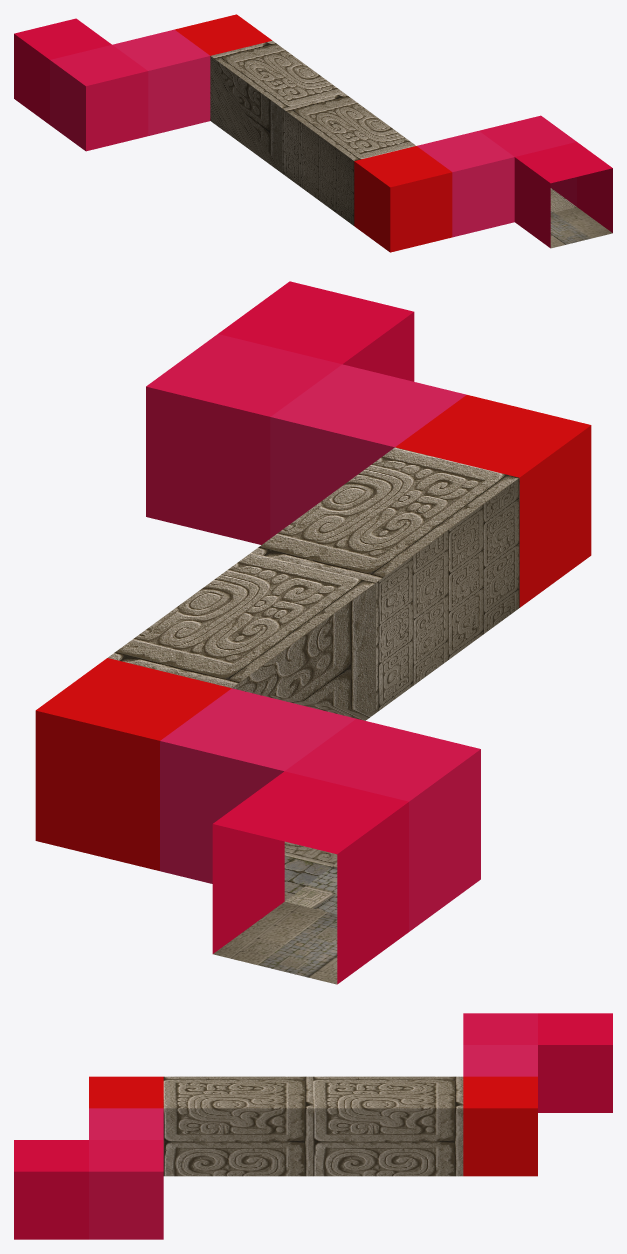
File: corridor.glb
The picture shows the model from 3 angles, top to bottom: view 1: azimuth 30°, elevation 25°; view 2: azimuth 150°, elevation 25°; view 3: azimuth 270°, elevation 25°; orthographic projection. The views are drawn at different scales.
Parts seen in each view (by area): view 1: Cube.001, Cube.003, Cube.004, Cube.009, Cube.010, Cube.006, Cube.005, Cube.008, Cube.007, Cube.002; view 2: Cube.001, Cube.008, Cube.003, Cube.002, Cube.007, Cube.006, Cube.009, Cube.004, Cube.005, Cube.010; view 3: Cube.003, Cube.001, Cube.002, Cube.008, Cube.007, Cube.010, Cube.004, Cube.006, Cube.009, Cube.005.
Part boxes in pixels (x1,y1,x2,y2): Cube.001: [282, 93, 415, 225]; Cube.003: [210, 40, 343, 173]; Cube.004: [354, 146, 452, 252]; Cube.009: [50, 45, 148, 151]; Cube.010: [514, 142, 612, 248]; Cube.006: [112, 29, 210, 135]; Cube.005: [417, 131, 514, 237]; Cube.008: [14, 18, 111, 124]; Cube.007: [479, 115, 576, 213]; Cube.002: [175, 14, 271, 55]; Cube.001: [251, 447, 519, 712]; Cube.008: [212, 771, 408, 984]; Cube.003: [108, 552, 375, 720]; Cube.002: [35, 658, 231, 870]; Cube.007: [146, 334, 341, 544]; Cube.006: [160, 688, 355, 900]; Cube.009: [285, 718, 480, 931]; Cube.004: [395, 395, 591, 607]; Cube.005: [270, 364, 466, 538]; Cube.010: [218, 281, 414, 381]; Cube.003: [313, 1076, 463, 1176]; Cube.001: [163, 1076, 313, 1176]; Cube.002: [463, 1076, 537, 1176]; Cube.008: [538, 1013, 612, 1112]; Cube.007: [89, 1140, 163, 1239]; Cube.010: [14, 1140, 88, 1239]; Cube.004: [89, 1076, 163, 1108]; Cube.006: [463, 1045, 537, 1076]; Cube.009: [463, 1013, 537, 1044]; Cube.005: [89, 1108, 163, 1139].
Bounding box in the file's own units: 20 × 4 × 32.
21 materials, 13 textured.
